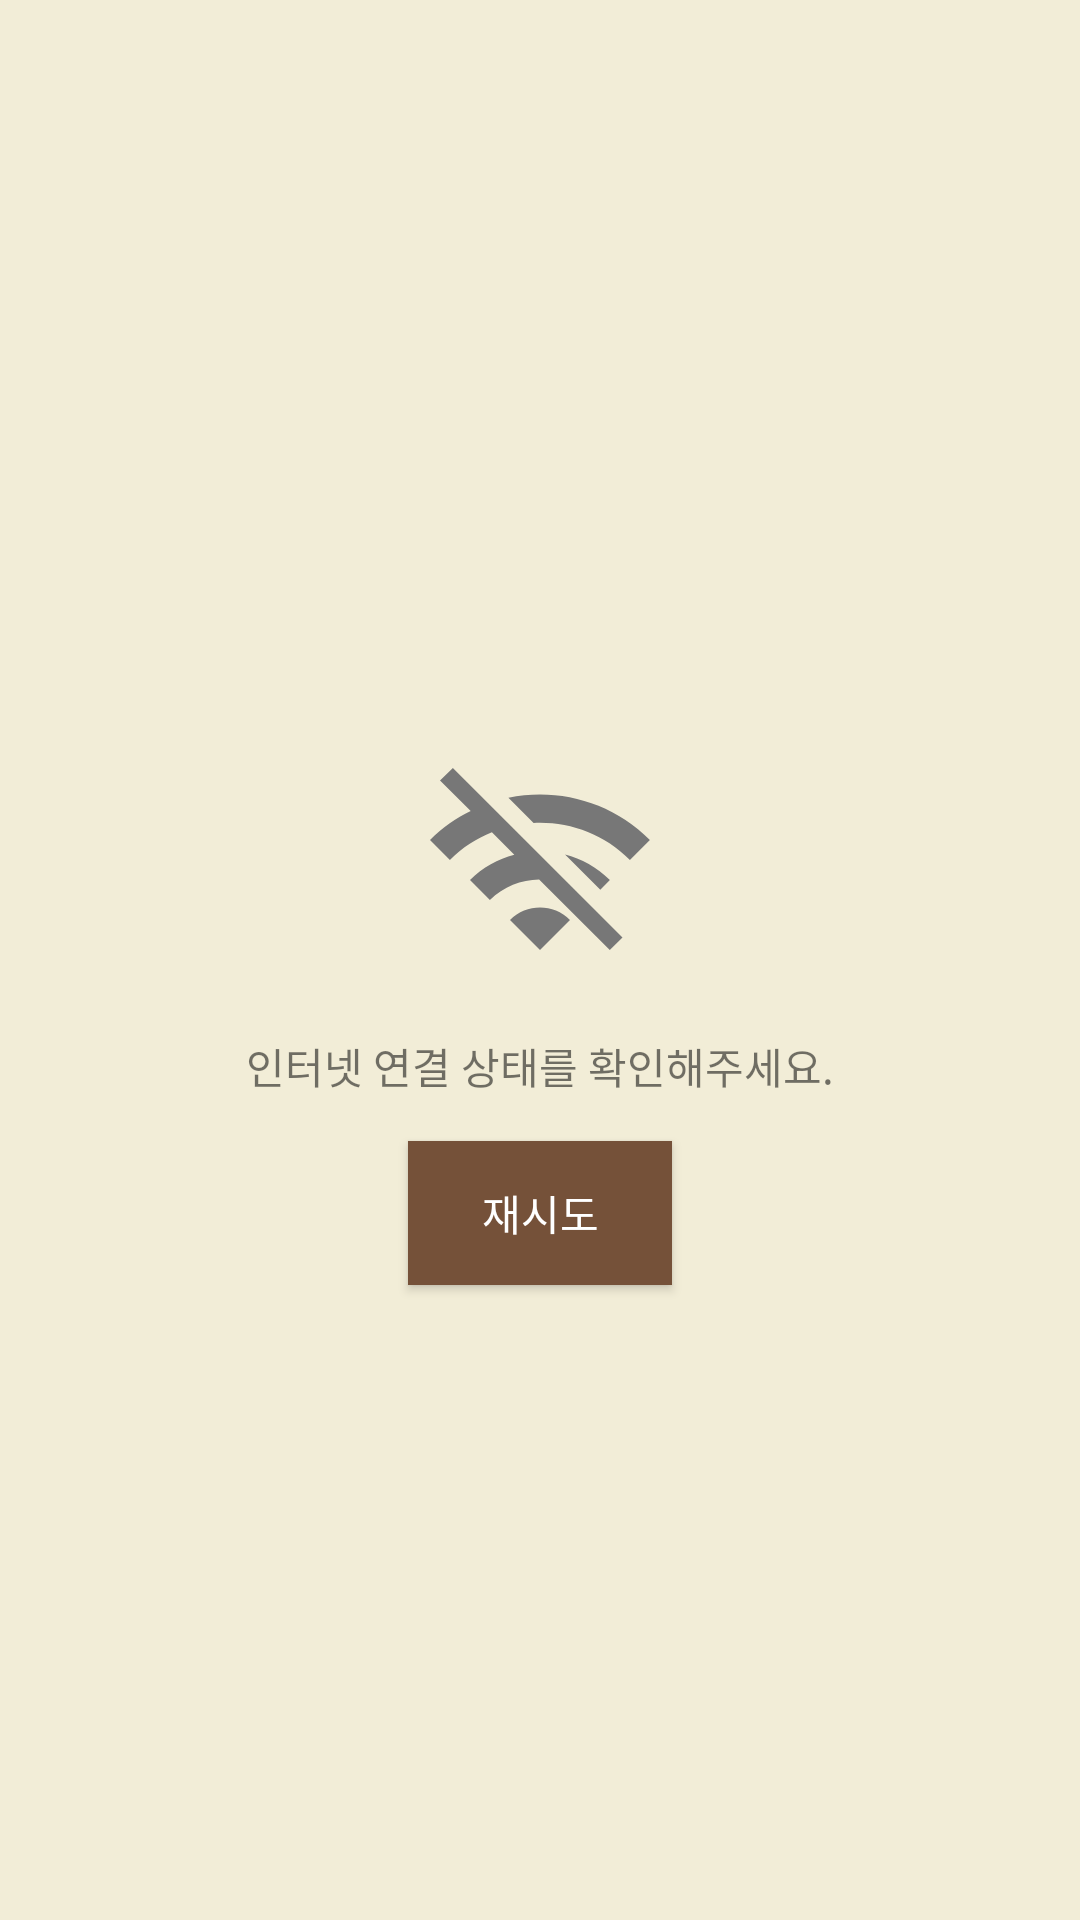

Icons on this 1080 × 1920 Android screen, each with its box as {"x1": x1, "y1": y1, "x2": x2, "y2": y2}:
not network: {"x1": 430, "y1": 768, "x2": 650, "y2": 950}
